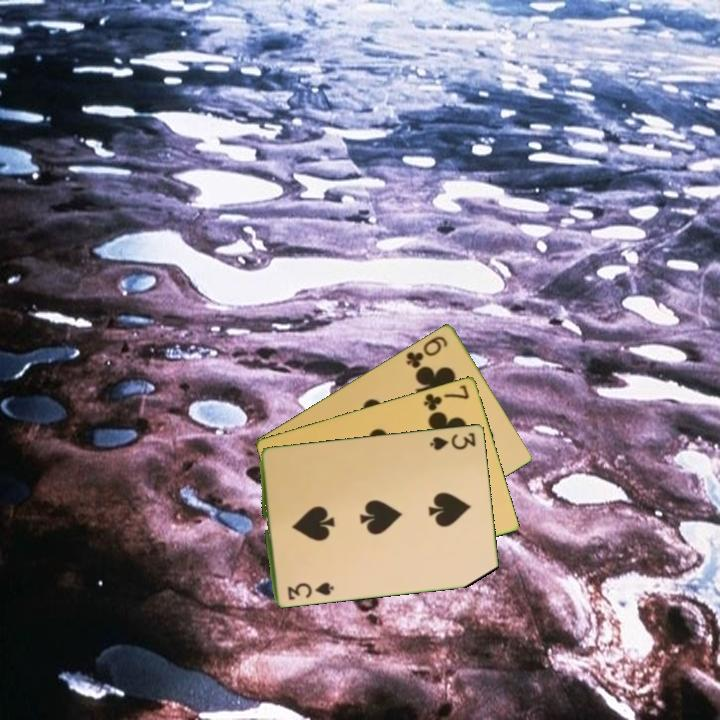3s: (427, 429, 479, 453), (284, 578, 334, 602)
6c: (402, 332, 451, 371)
7c: (420, 381, 472, 413)
